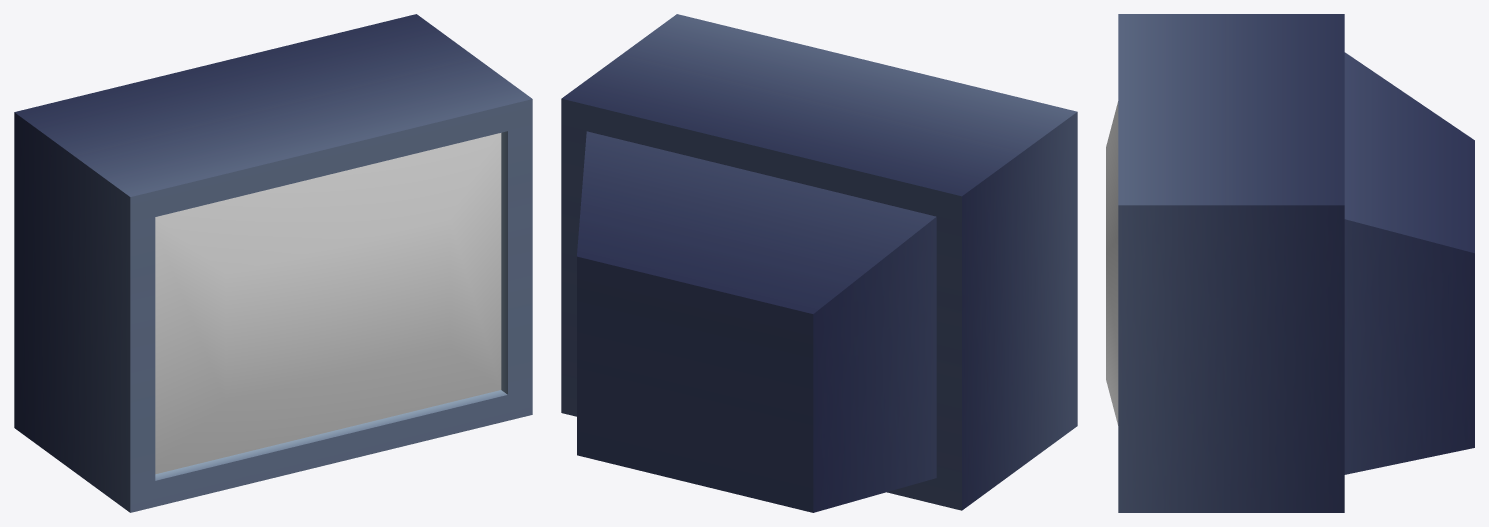
File: Fbx_CRT.fbx
The picture shows the model from 3 angles, left to right: view 1: azimuth 30°, elevation 25°; view 2: azimuth 150°, elevation 25°; view 3: azimuth 270°, elevation 25°; orthographic projection. The views are drawn at different scales.
Parts seen in each view (by area): view 1: CRT; view 2: CRT; view 3: CRT.
Part boxes in pixels (x1=…): CRT: x1=14, y1=14, x2=532, y2=512; CRT: x1=561, y1=14, x2=1077, y2=512; CRT: x1=1106, y1=14, x2=1474, y2=512.
Size of the model in its own units: 4 by 3 by 3.26.
